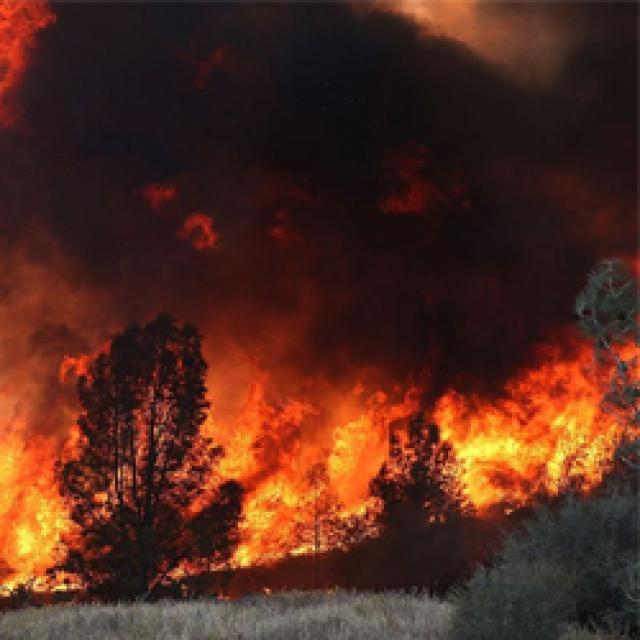Fire: (396, 316, 640, 510), (194, 380, 426, 572), (0, 338, 128, 603), (134, 168, 244, 274), (0, 0, 56, 151)
Smoke: (0, 0, 640, 344), (173, 185, 322, 402), (0, 225, 179, 346)
